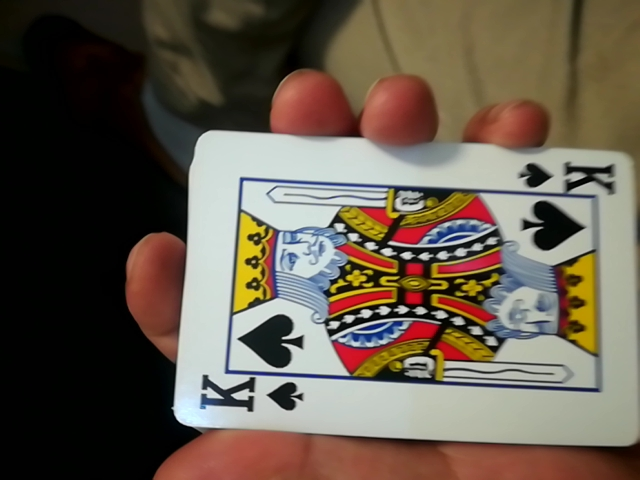ht k: (155, 130, 629, 456)
